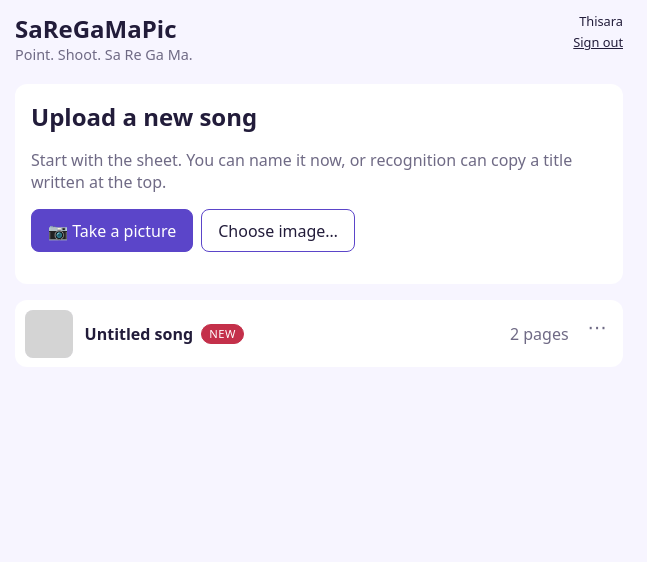
Test: App › keeps the menu open when a menu item is pressed (pointerdown must not dismiss it)
Expected: the text "Untitled song" is shown, [85, 323, 193, 345]
Click the button named "Actions for Untitled song" at (597, 326), box [575, 304, 619, 348]
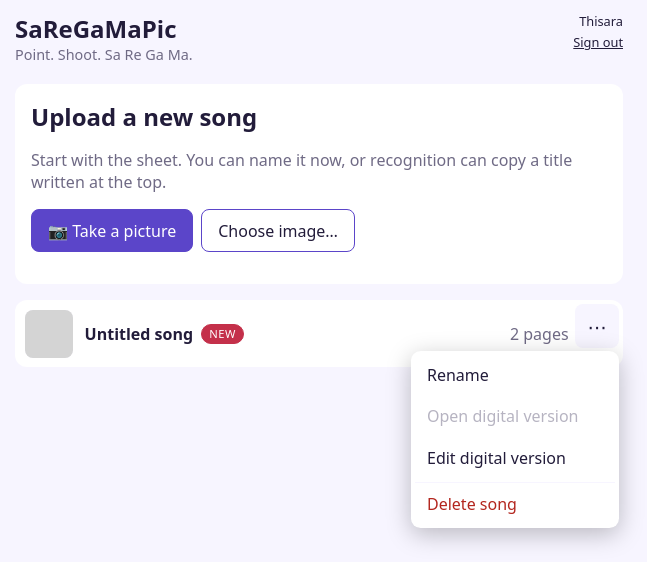
Faithfully replay the browser's order: pointerdown, then the click.
Press the mouse on the menu item "Rename" at (515, 375), box [415, 355, 615, 396]
Now the menu item "Rename" is shown
Click the menu item "Rename" at (515, 375), box [415, 355, 615, 396]
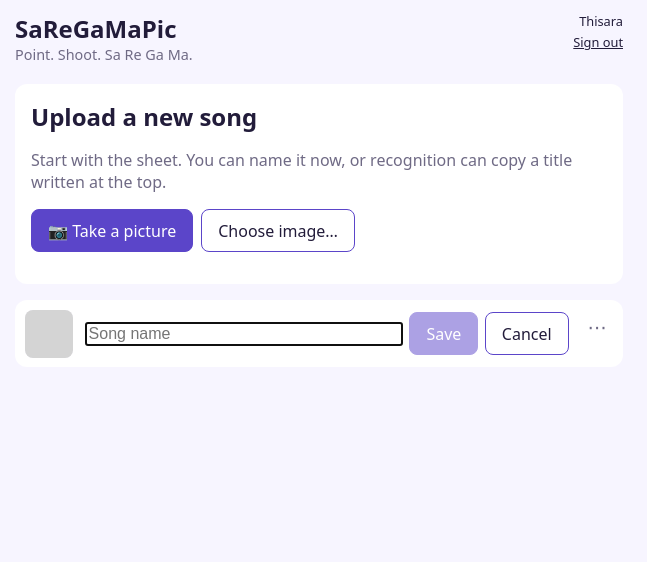
Now the field labelled "Song name" is shown, box [85, 322, 403, 346]
